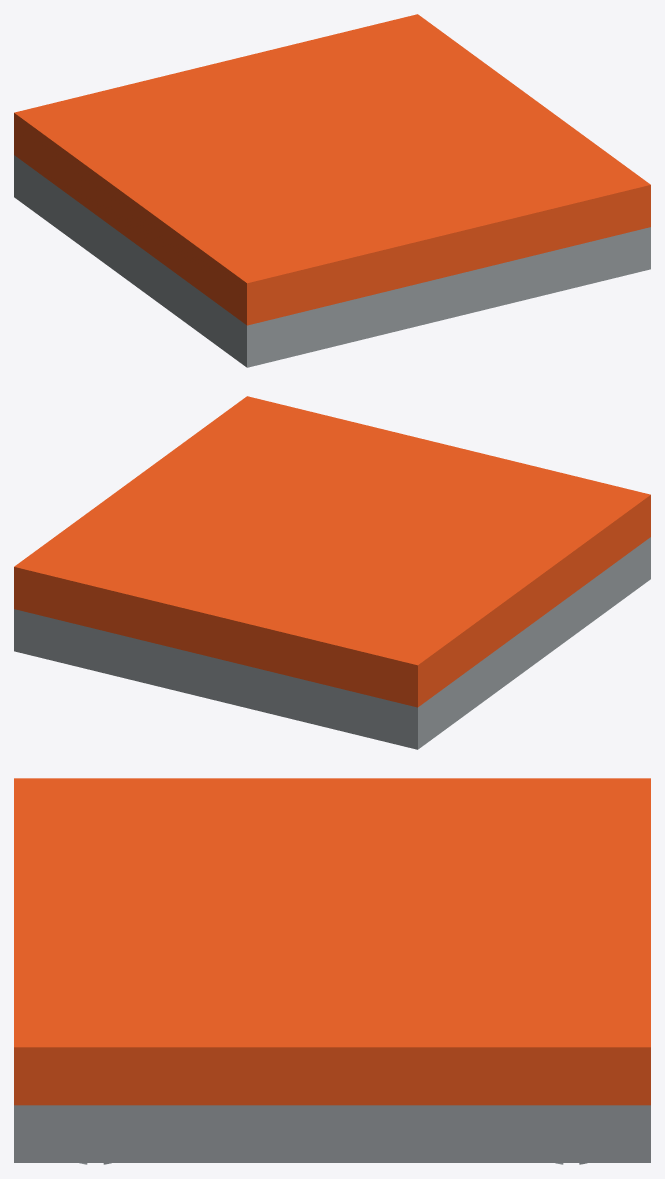
The model's file is tinker.obj.
3 views of the same model, one above another, from view 1: azimuth 30°, elevation 25°; view 2: azimuth 150°, elevation 25°; view 3: azimuth 270°, elevation 25° (orthographic). The views are drawn at different scales.
Visible parts, largest first — view 1: group_0_16737828, group_0_10988977; view 2: group_0_16737828, group_0_10988977; view 3: group_0_16737828, group_0_10988977.
Part boxes in pixels (<box>): group_0_16737828: <box>14,14,650,325</box>; group_0_10988977: <box>14,155,650,367</box>; group_0_16737828: <box>14,396,650,707</box>; group_0_10988977: <box>14,537,650,749</box>; group_0_16737828: <box>14,778,650,1105</box>; group_0_10988977: <box>14,1105,650,1162</box>.
Size of the model in its own units: 10 by 2.5 by 10.
